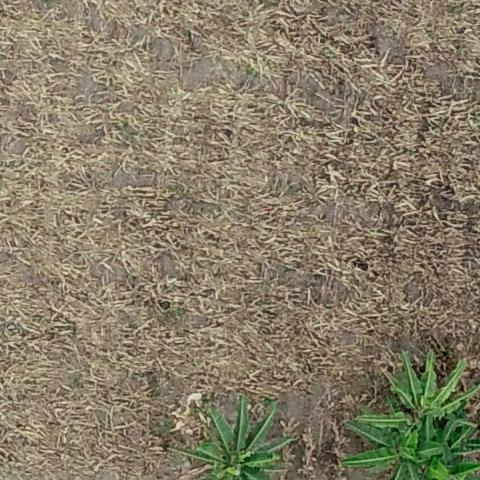Banana-plant: (186, 397, 294, 480), (374, 349, 476, 433), (336, 415, 438, 480), (394, 406, 478, 480)
